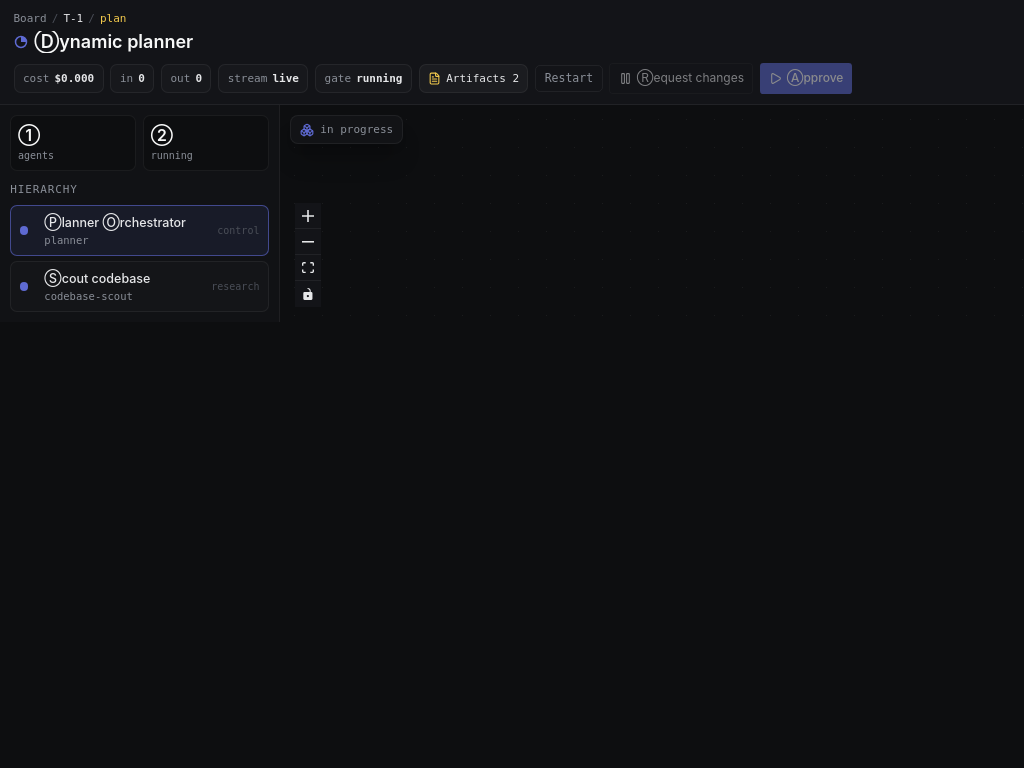
Test: PlanCanvasConsole › keeps agent details out of the default page until an agent is opened
The image size is (1024, 768).
Check: the dialog "agent dossier" is not shown
Click the button "Scout codebase codebase-scout research".
click(140, 287)  # box [10,261,269,312]
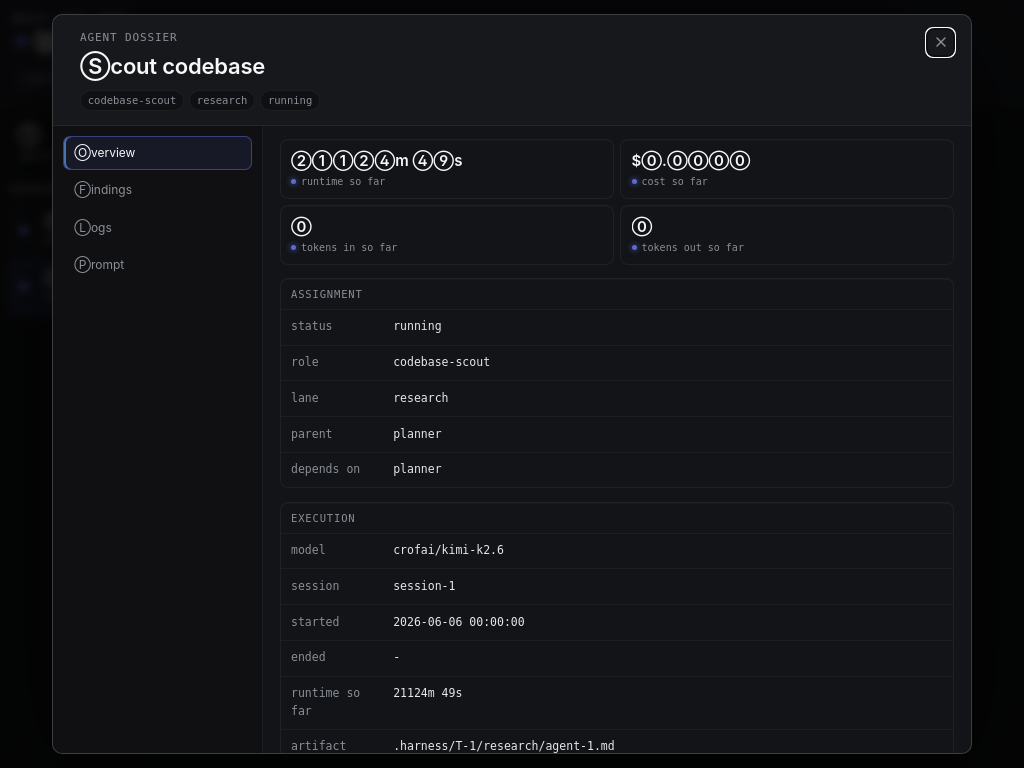
Check: the dialog "agent dossier" is shown
Check: the heading "Scout codebase" is shown, box [80,53,265,79]
